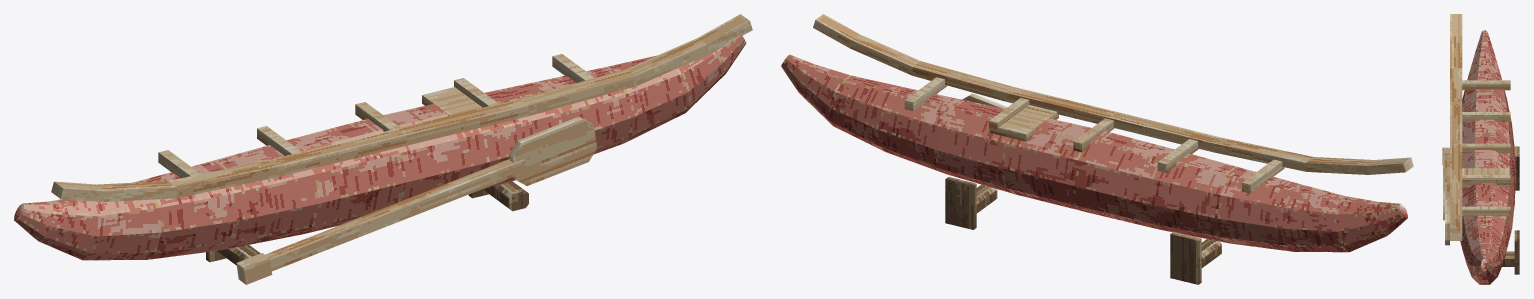
Rendered from sv_canoe.glb.
3 views of the same model, side by side, from view 1: azimuth 30°, elevation 25°; view 2: azimuth 150°, elevation 25°; view 3: azimuth 270°, elevation 25° (orthographic). The views are drawn at different scales.
Visible parts, largest first — view 1: hull, gunwale, shaft, blade, seat, bracket1, grip, rib1, rib4, rib0, rib2, rib3 (+1 smaller); view 2: hull, gunwale, plate-1, plate1, seat, bracket1, rib0, rib4, rib1, rib2, rib3, bracket-1; view 3: hull, gunwale, rib0, rib4, seat, rib3, rib1, rib2, shaft, plate1, blade, plate-1 (+2 smaller).
Boxes of the visible parts, box(x1,y1,x2,y2) form: hull: box(14, 36, 746, 260); gunwale: box(51, 14, 752, 201); shaft: box(265, 159, 526, 271); blade: box(509, 116, 596, 185); seat: box(422, 87, 482, 115); bracket1: box(483, 181, 528, 211); grip: box(236, 253, 272, 284); rib1: box(257, 126, 301, 155); rib4: box(552, 54, 594, 82); rib0: box(158, 150, 200, 177); rib2: box(355, 102, 399, 131); rib3: box(454, 78, 498, 107); hull: box(781, 54, 1407, 252); gunwale: box(813, 14, 1413, 174); plate-1: box(1170, 231, 1201, 284); plate1: box(945, 177, 976, 229); seat: box(990, 105, 1058, 141); bracket1: box(951, 184, 997, 221); rib0: box(1242, 159, 1284, 193); rib4: box(904, 77, 947, 110); rib1: box(1157, 139, 1198, 172); rib2: box(1073, 118, 1114, 152); rib3: box(989, 98, 1029, 131); bracket-1: box(1176, 239, 1221, 276); hull: box(1460, 30, 1515, 284); gunwale: box(1450, 14, 1462, 240); rib0: box(1462, 80, 1510, 90); rib4: box(1462, 206, 1510, 216); seat: box(1462, 168, 1509, 187); rib3: box(1462, 175, 1510, 184); rib1: box(1462, 112, 1510, 121); rib2: box(1462, 143, 1510, 153); shaft: box(1443, 155, 1449, 220); plate1: box(1514, 230, 1519, 274); blade: box(1445, 200, 1449, 245); plate-1: box(1514, 146, 1519, 190).
Size of the model in its own units: 2.78 by 0.5742 by 0.3875.
1 material, 1 textured.
